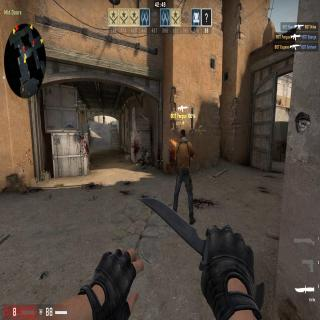CT-Body: (103, 116, 105, 124)
CT-Head: (104, 115, 105, 116)
